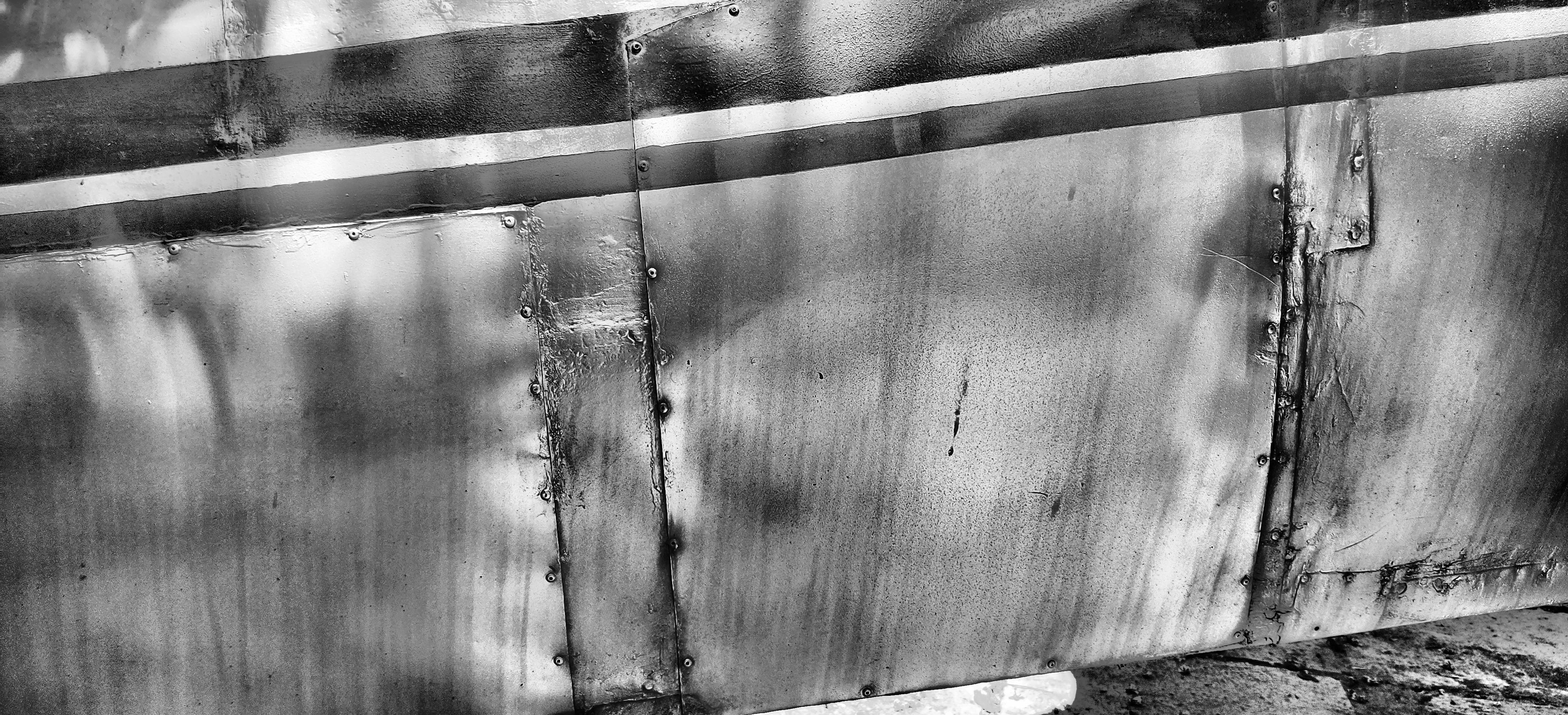crack: (1263, 611, 1293, 620)
dent: (519, 424, 548, 464)
scratch: (1201, 247, 1280, 287), (1336, 523, 1386, 553), (1333, 359, 1356, 416), (201, 237, 267, 249)
